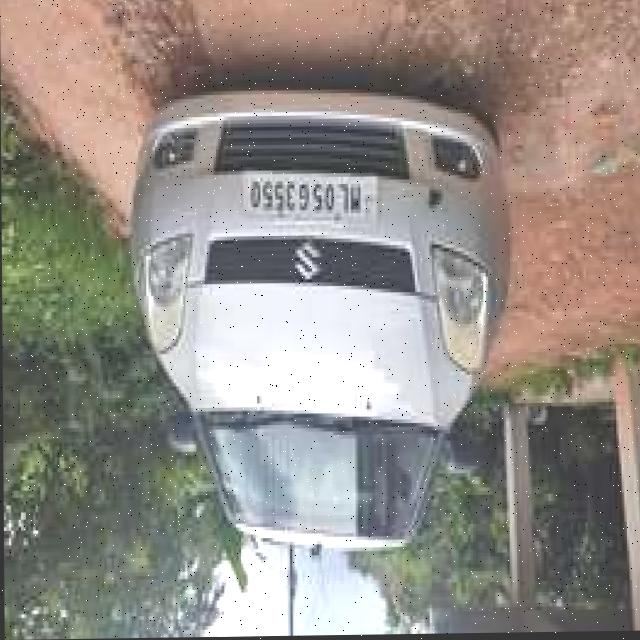plate: (241, 170, 379, 227)
